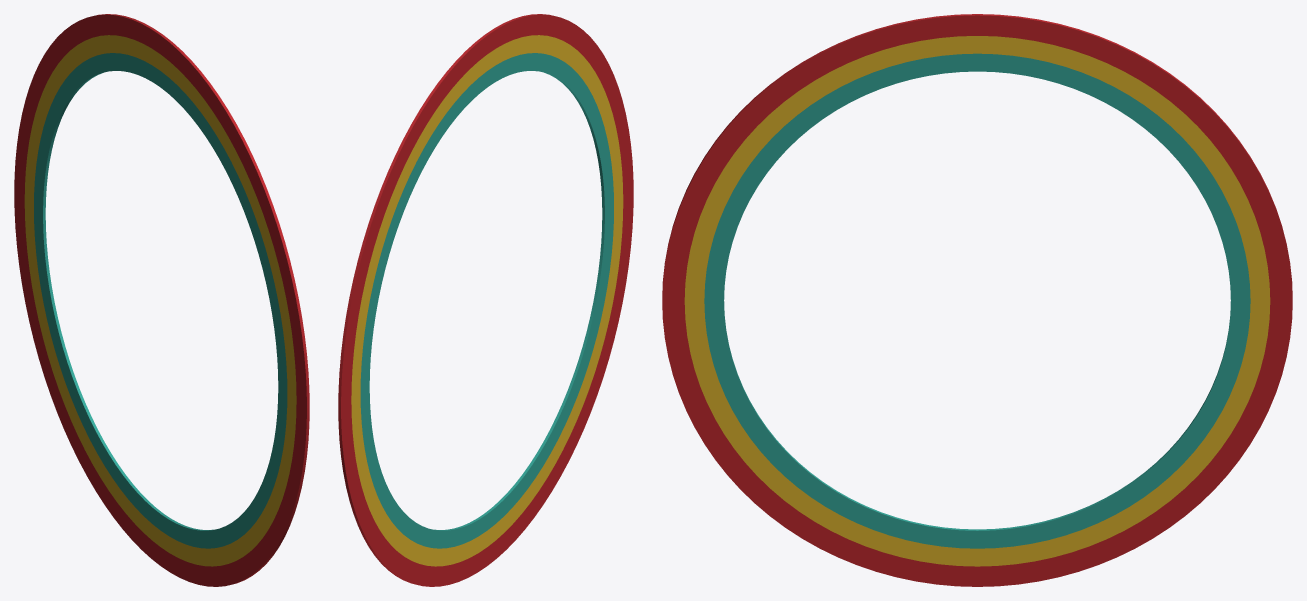
The model's file is mechanical_cartridge_seal_pressure.glb.
The picture shows the model from 3 angles, left to right: view 1: azimuth 30°, elevation 25°; view 2: azimuth 150°, elevation 25°; view 3: azimuth 270°, elevation 25°; orthographic projection. The views are drawn at different scales.
Parts seen in each view (by area): view 1: pressure__front, pressure__back; view 2: pressure__back, pressure__front; view 3: pressure__back, pressure__front.
Part boxes in pixels (bbox=[...]): pressure__front: bbox=[160, 35, 309, 586]; pressure__back: bbox=[14, 14, 162, 565]; pressure__back: bbox=[338, 35, 487, 586]; pressure__front: bbox=[485, 14, 633, 565]; pressure__back: bbox=[977, 14, 1292, 586]; pressure__front: bbox=[662, 14, 977, 586].
Size of the model in its own units: 0.0006 by 0.112 by 0.112.
